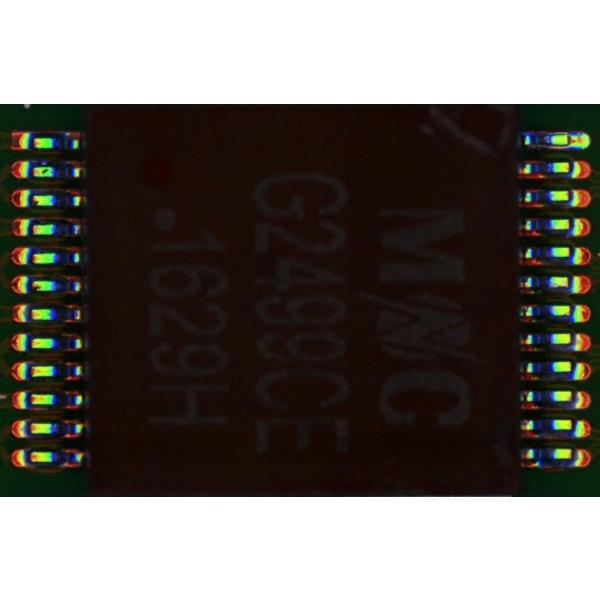Bad_podu: (562, 135, 578, 143)
Bad_qiaojiao: (533, 144, 569, 148)
